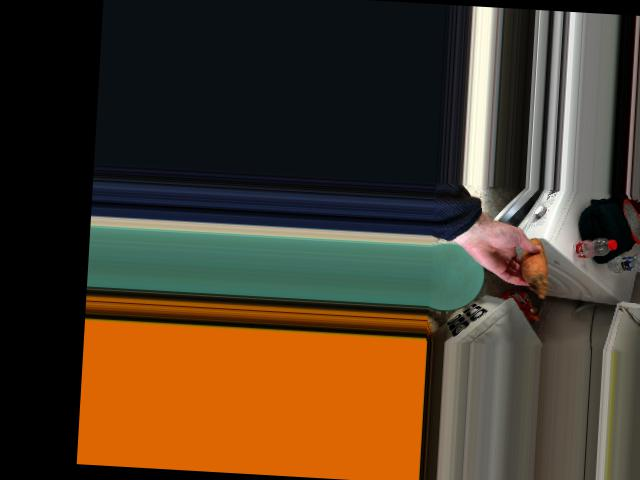sweet_potato: (522, 241, 550, 287)
